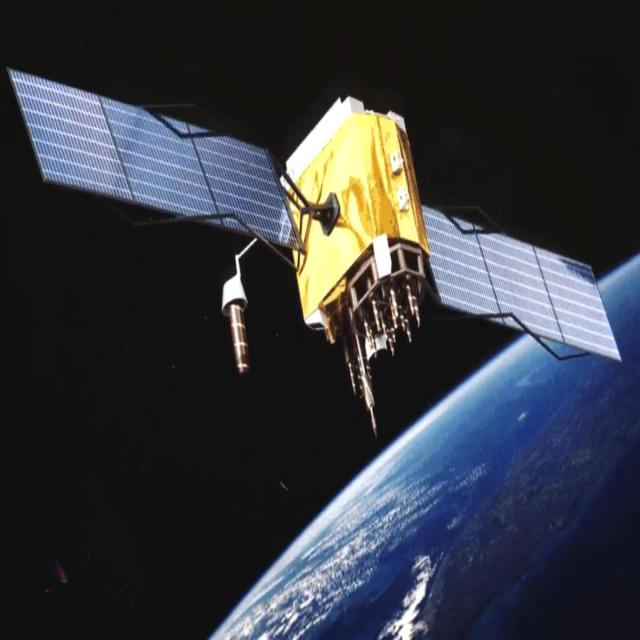medium_debris: (0, 56, 637, 440)
